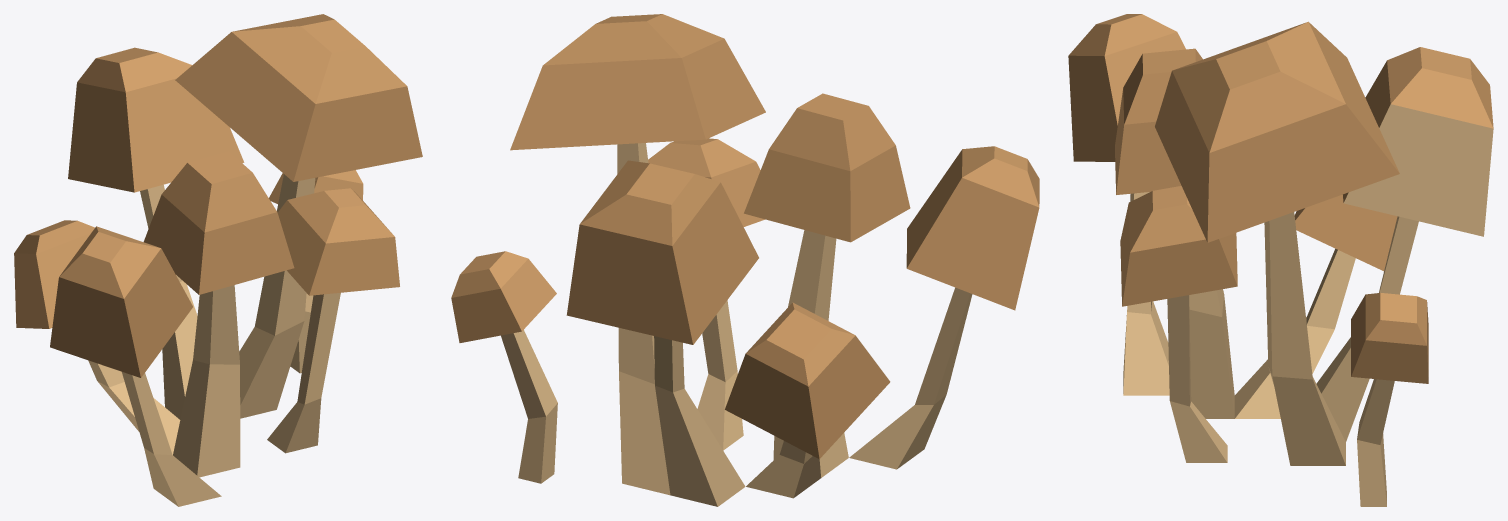
The model's file is seta_1.fbx.
The picture shows the model from 3 angles, left to right: view 1: azimuth 30°, elevation 25°; view 2: azimuth 150°, elevation 25°; view 3: azimuth 270°, elevation 25°; orthographic projection. The views are drawn at different scales.
Parts seen in each view (by area): view 1: honey mushroom; view 2: honey mushroom; view 3: honey mushroom.
Part boxes in pixels (x1,y1,x2,y2): honey mushroom: (14, 14, 422, 506); honey mushroom: (451, 14, 1039, 506); honey mushroom: (1068, 14, 1493, 506).
Bounding box in the file's own units: 20.81 × 19.05 × 16.98.
